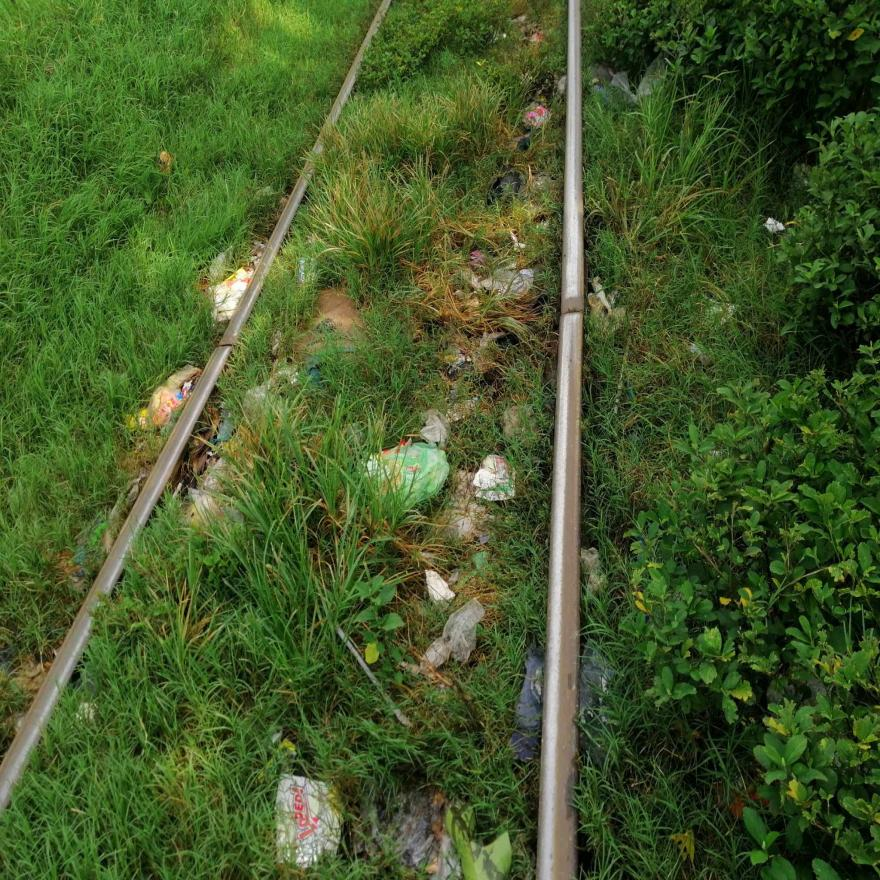railway-gap: (544, 280, 602, 344), (201, 320, 247, 370)
